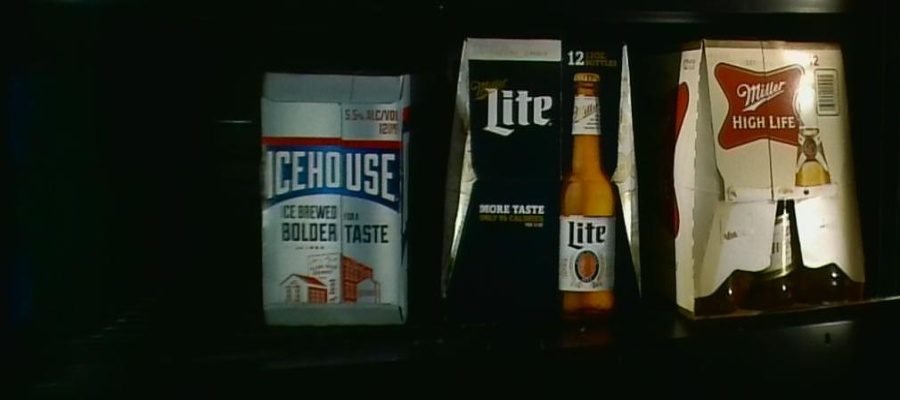bottle: (649, 37, 868, 315), (441, 34, 645, 320), (258, 68, 416, 331)
